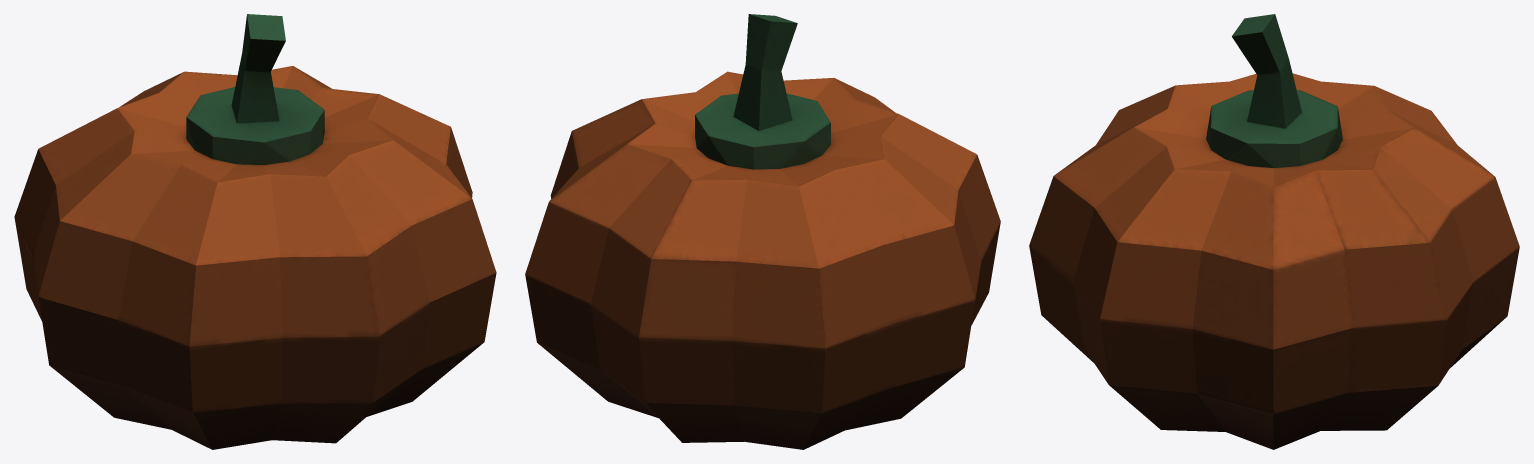
File: pumpkin_spawn_lod0.fbx
The picture shows the model from 3 angles, left to right: view 1: azimuth 30°, elevation 25°; view 2: azimuth 150°, elevation 25°; view 3: azimuth 270°, elevation 25°; orthographic projection.
Visible parts, largest first — view 1: Pumpkin_lod0; view 2: Pumpkin_lod0; view 3: Pumpkin_lod0.
Boxes of the visible parts, bbox=[...] form: Pumpkin_lod0: bbox=[14, 14, 496, 449]; Pumpkin_lod0: bbox=[525, 14, 1000, 449]; Pumpkin_lod0: bbox=[1029, 14, 1519, 449].
Size of the model in its own units: 0.00652 by 0.00536 by 0.00652.
